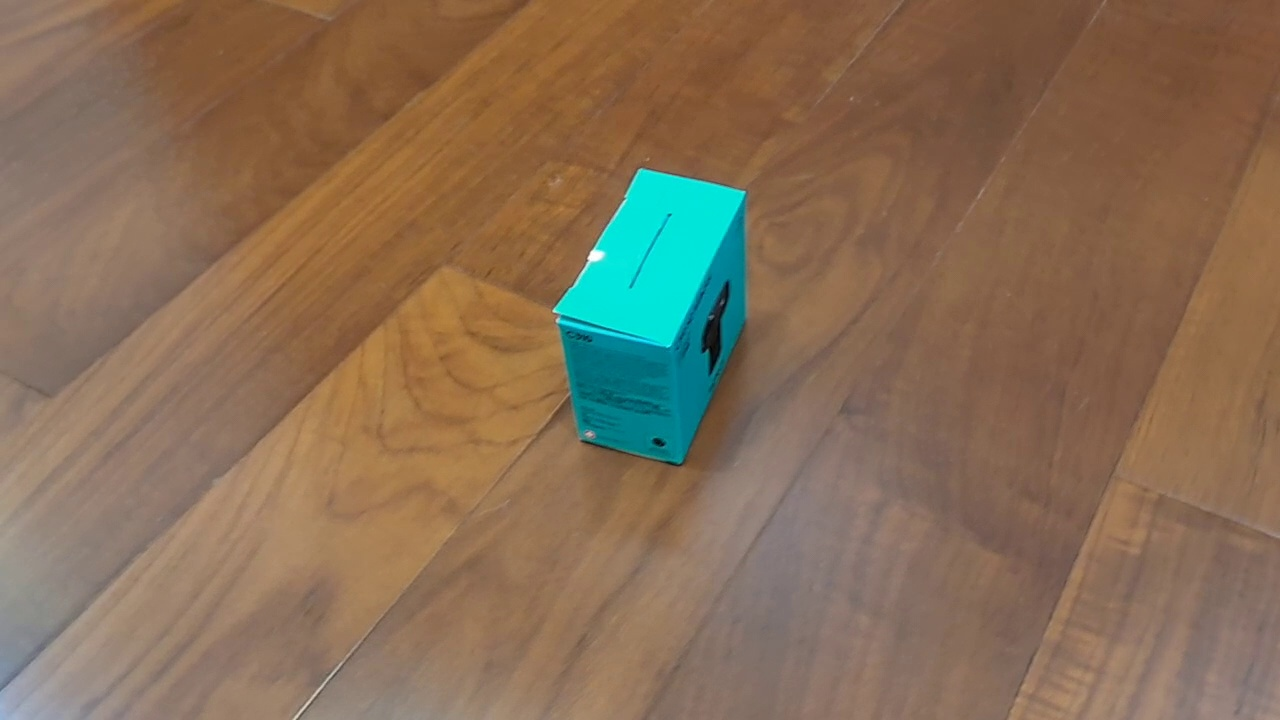webcam: (551, 165, 748, 467)
